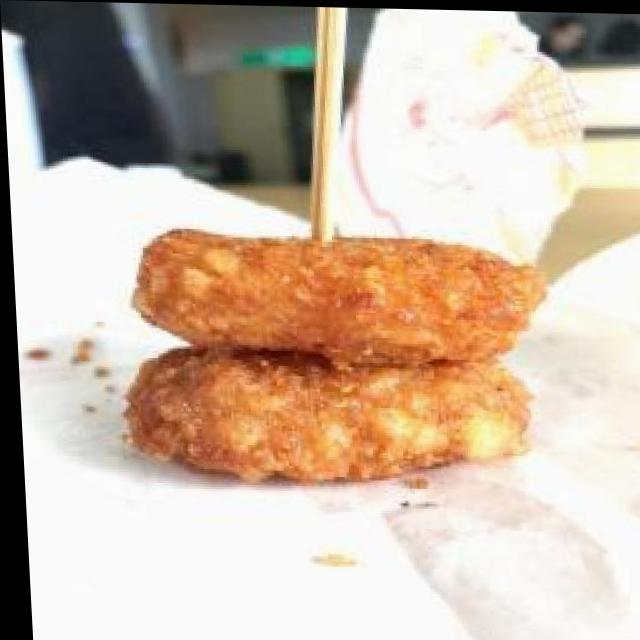triangle_hash_brown: (114, 225, 532, 487)
